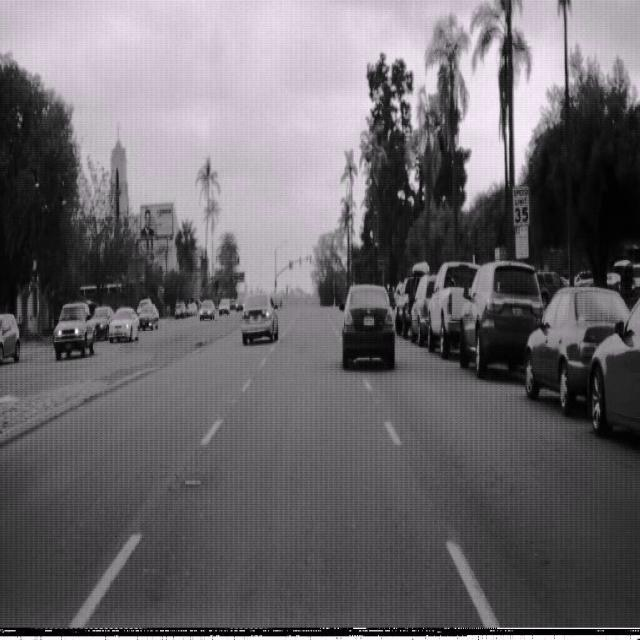speedLimit35: (511, 183, 531, 228)
